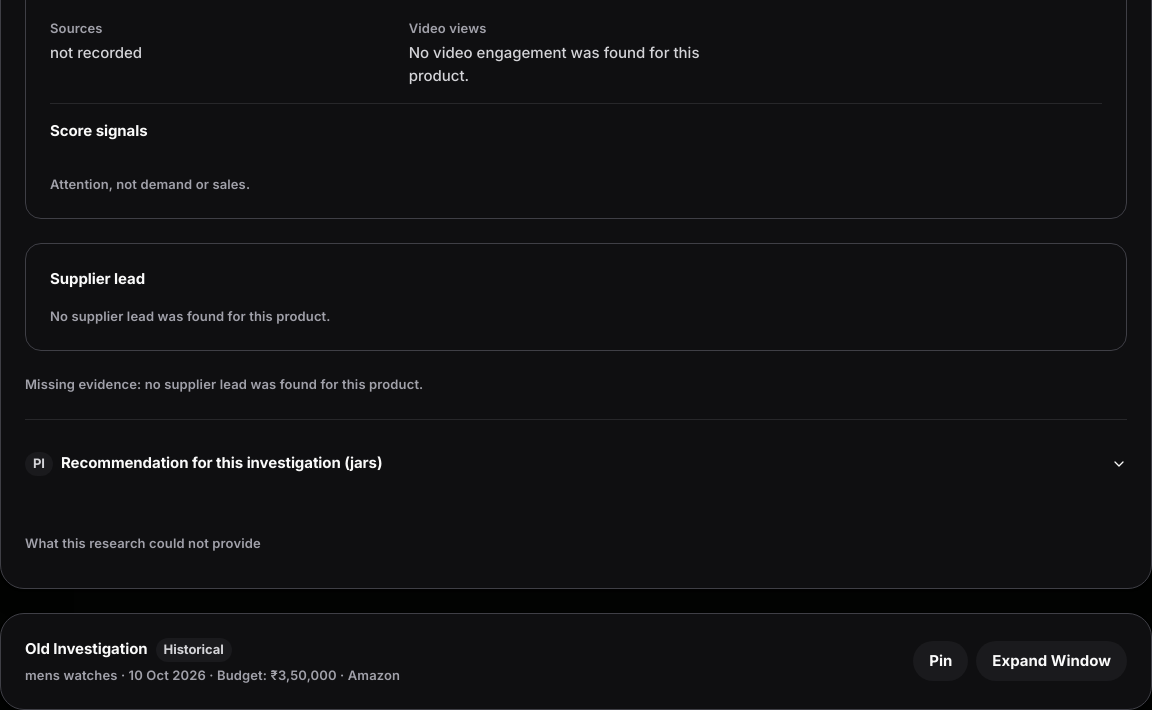
PI showcase (read-only) › opens the report named by the CEO link, and loads an older investigation on expand
(page scrolled)
Click the button "Expand Window".
click(1052, 661)  # box x1=976 y1=641 x2=1127 y2=681
(page scrolled)
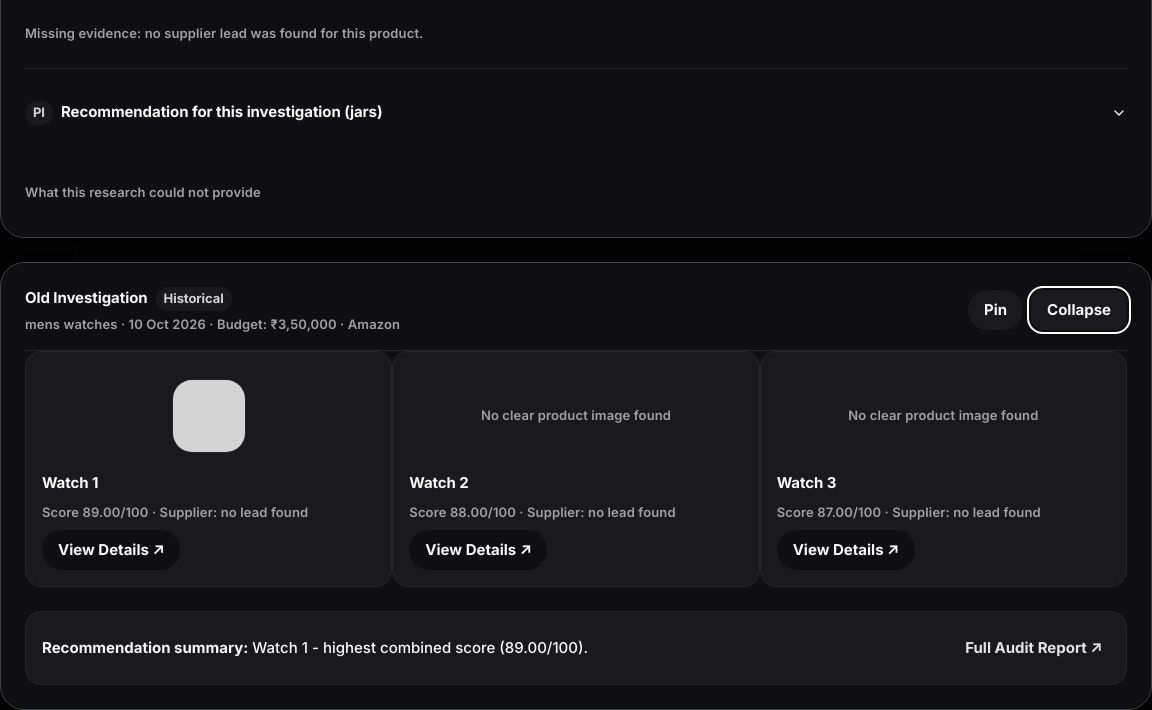
Now the text "Recommendation summary:" is shown, box x1=42 y1=638 x2=248 y2=657
